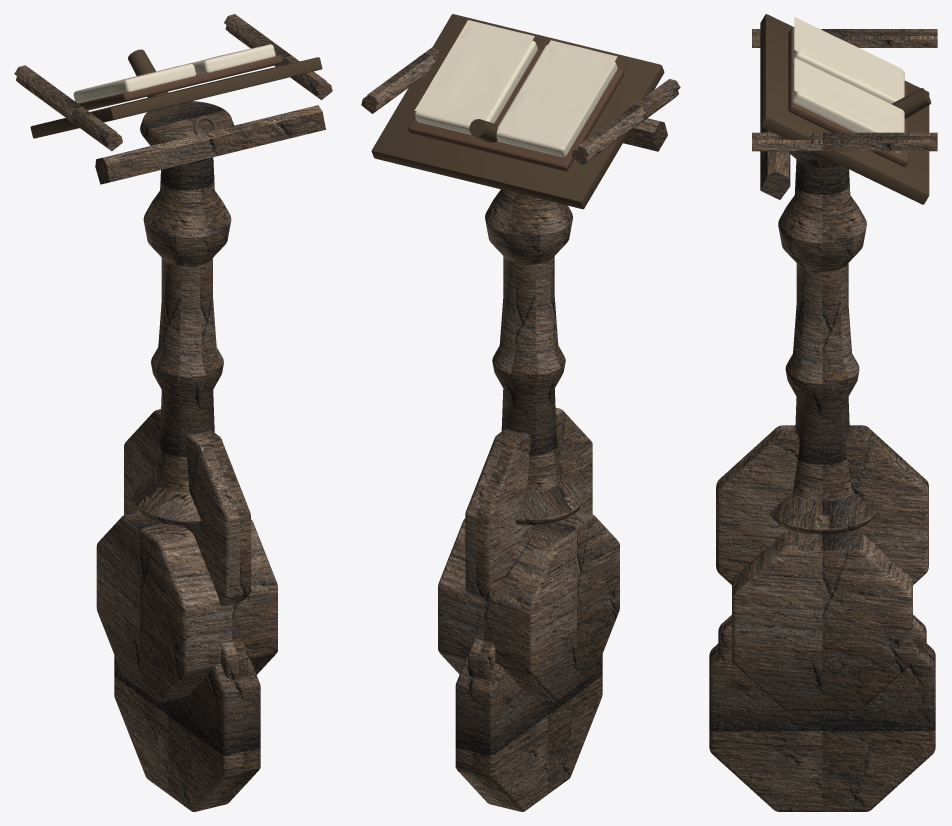
The model's file is lectern-v02.glb.
3 views of the same model, side by side, from view 1: azimuth 30°, elevation 25°; view 2: azimuth 150°, elevation 25°; view 3: azimuth 270°, elevation 25° (orthographic).
Visible parts, largest first — view 1: lectern; view 2: lectern; view 3: lectern.
Part boxes in pixels (bbox=[...]): lectern: bbox=[14, 14, 332, 811]; lectern: bbox=[361, 14, 680, 811]; lectern: bbox=[709, 14, 937, 811].
Bounding box in the file's own units: 0.7141 × 2.23 × 0.6149.
Materials: 4 (3 with a texture image).
